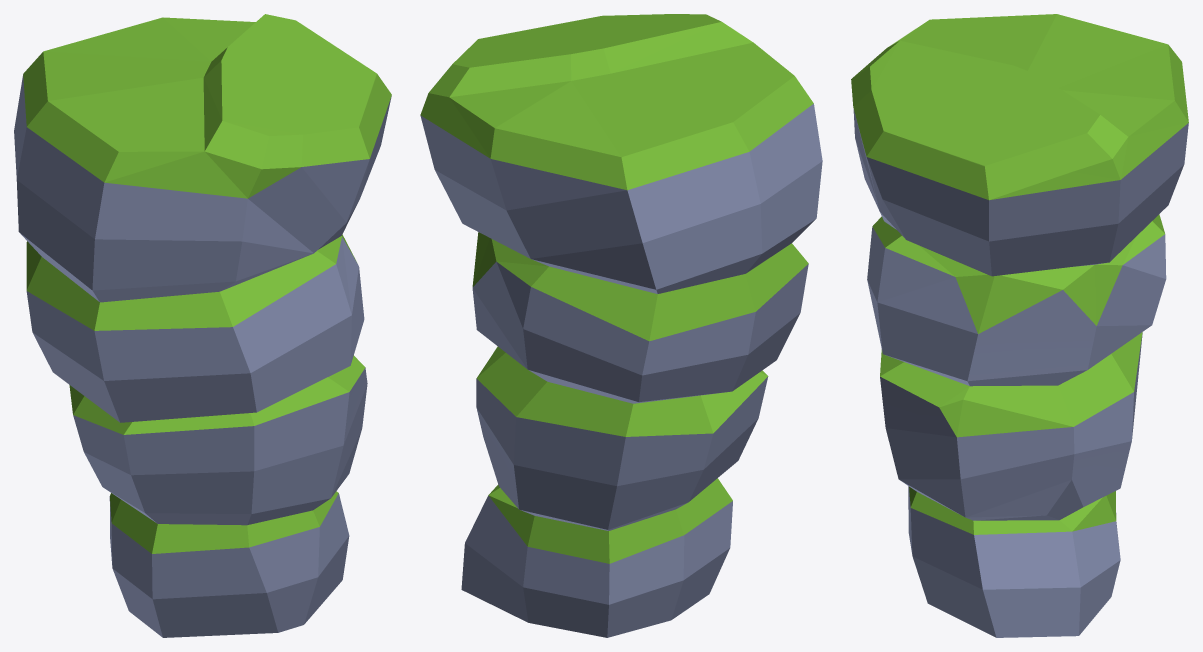
The model's file is Rock_18.fbx.
3 views of the same model, side by side, from view 1: azimuth 30°, elevation 25°; view 2: azimuth 150°, elevation 25°; view 3: azimuth 270°, elevation 25° (orthographic). The views are drawn at different scales.
Visible parts, largest first — view 1: Rock_18; view 2: Rock_18; view 3: Rock_18.
Part boxes in pixels (bbox=[...]): Rock_18: bbox=[14, 14, 391, 637]; Rock_18: bbox=[420, 14, 822, 637]; Rock_18: bbox=[851, 14, 1188, 637].
Bounding box in the file's own units: 4.92 × 7.52 × 4.43.
